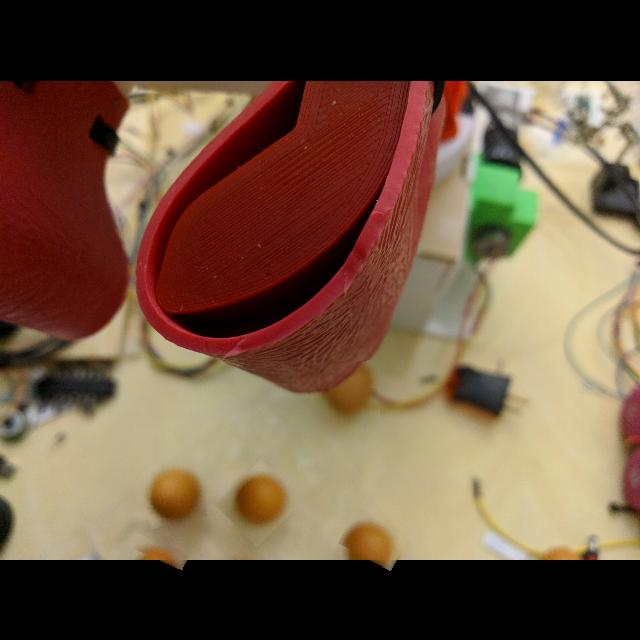Egg: (221, 464, 295, 542), (142, 464, 204, 526), (320, 362, 380, 426), (341, 512, 407, 566), (133, 539, 187, 565)
